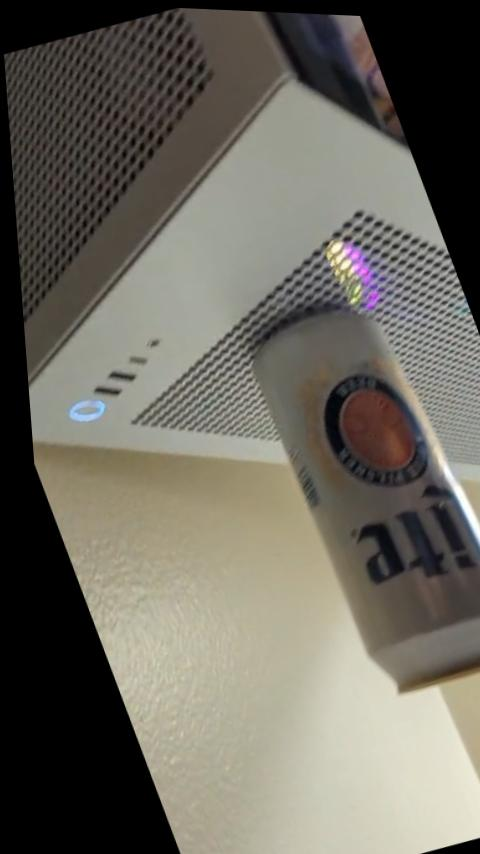metal: (235, 296, 480, 708)
